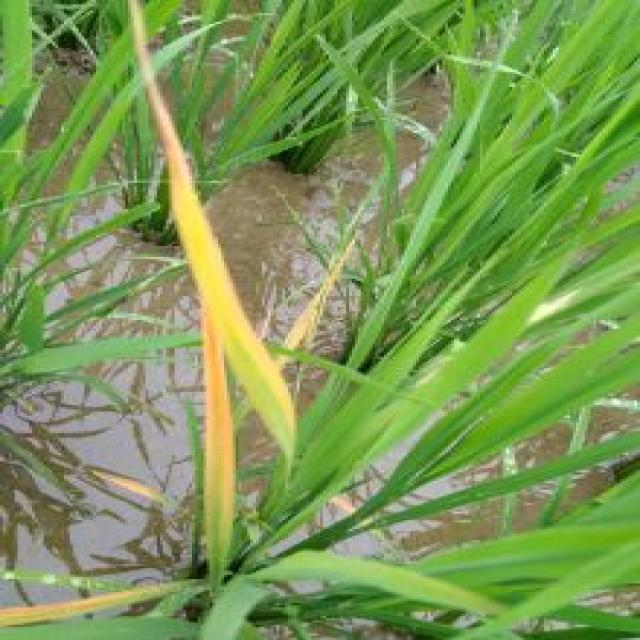Rice Tungro: (149, 82, 298, 573)
